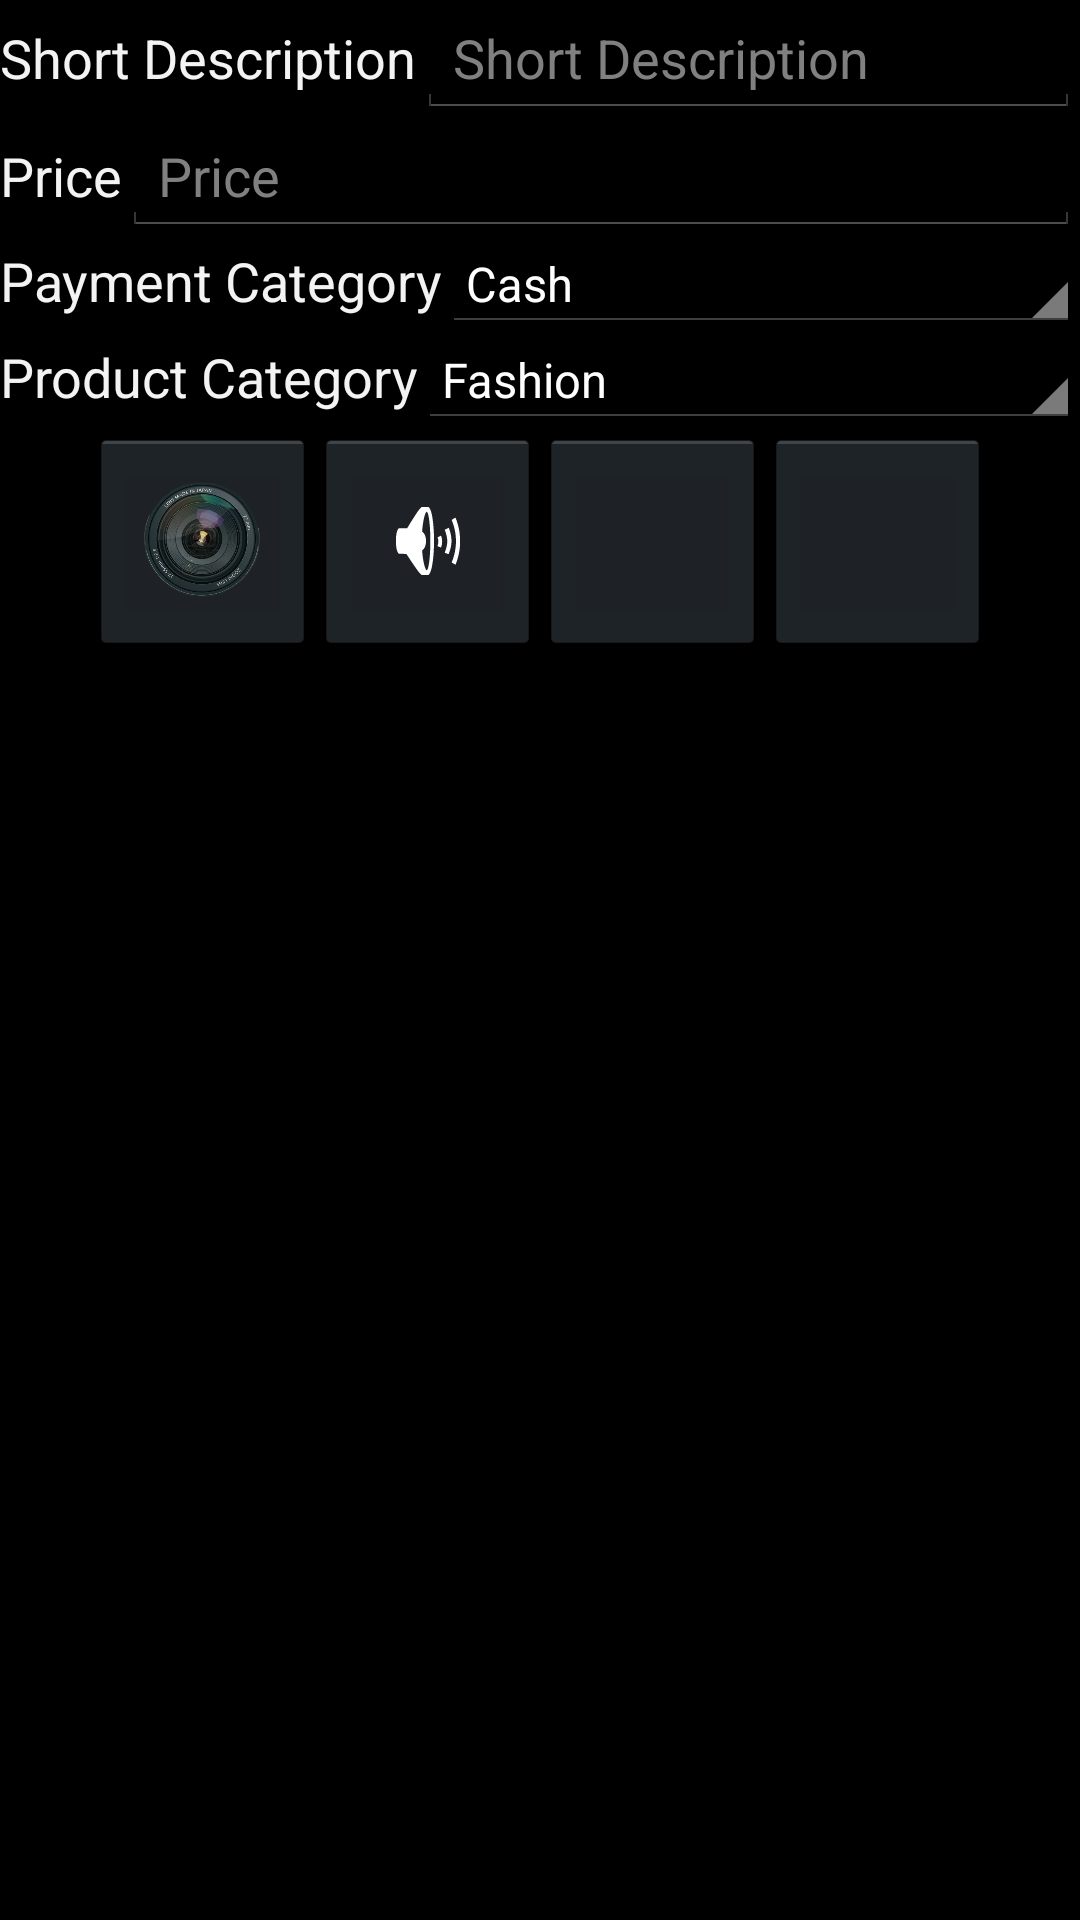

Locate icon controls on the screen. Image size 1080 × 1920, boxes as [x1=x1, y1=y1, x2=x2, y2=y2].
camera: [x1=102, y1=441, x2=303, y2=642]
lock silent mode off: [x1=327, y1=441, x2=528, y2=642]
